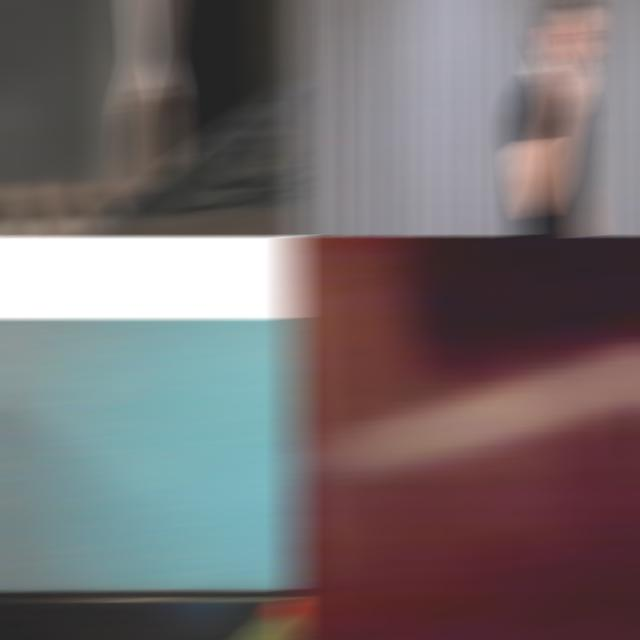Knife: (74, 85, 301, 236)
Knife_Handle: (287, 236, 640, 489), (0, 0, 301, 236), (532, 30, 588, 112)
